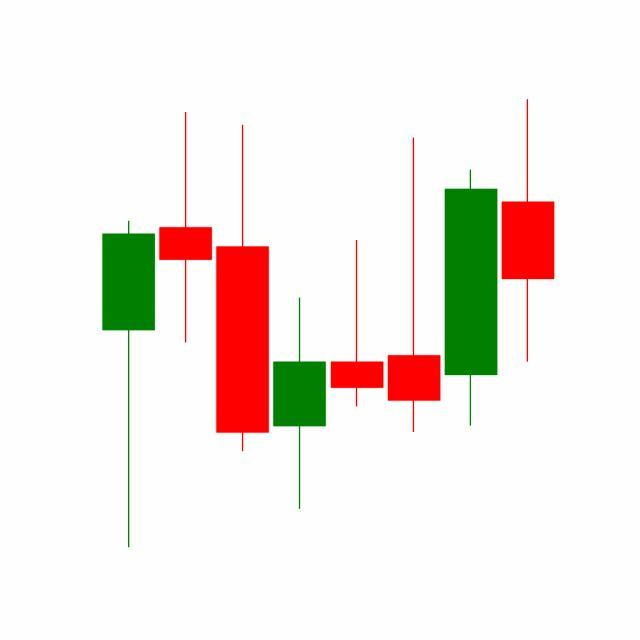Hikkake Pattern: (270, 99, 555, 514)
